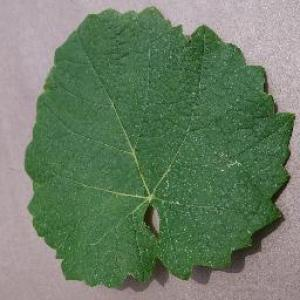Folha: (23, 4, 295, 290)
